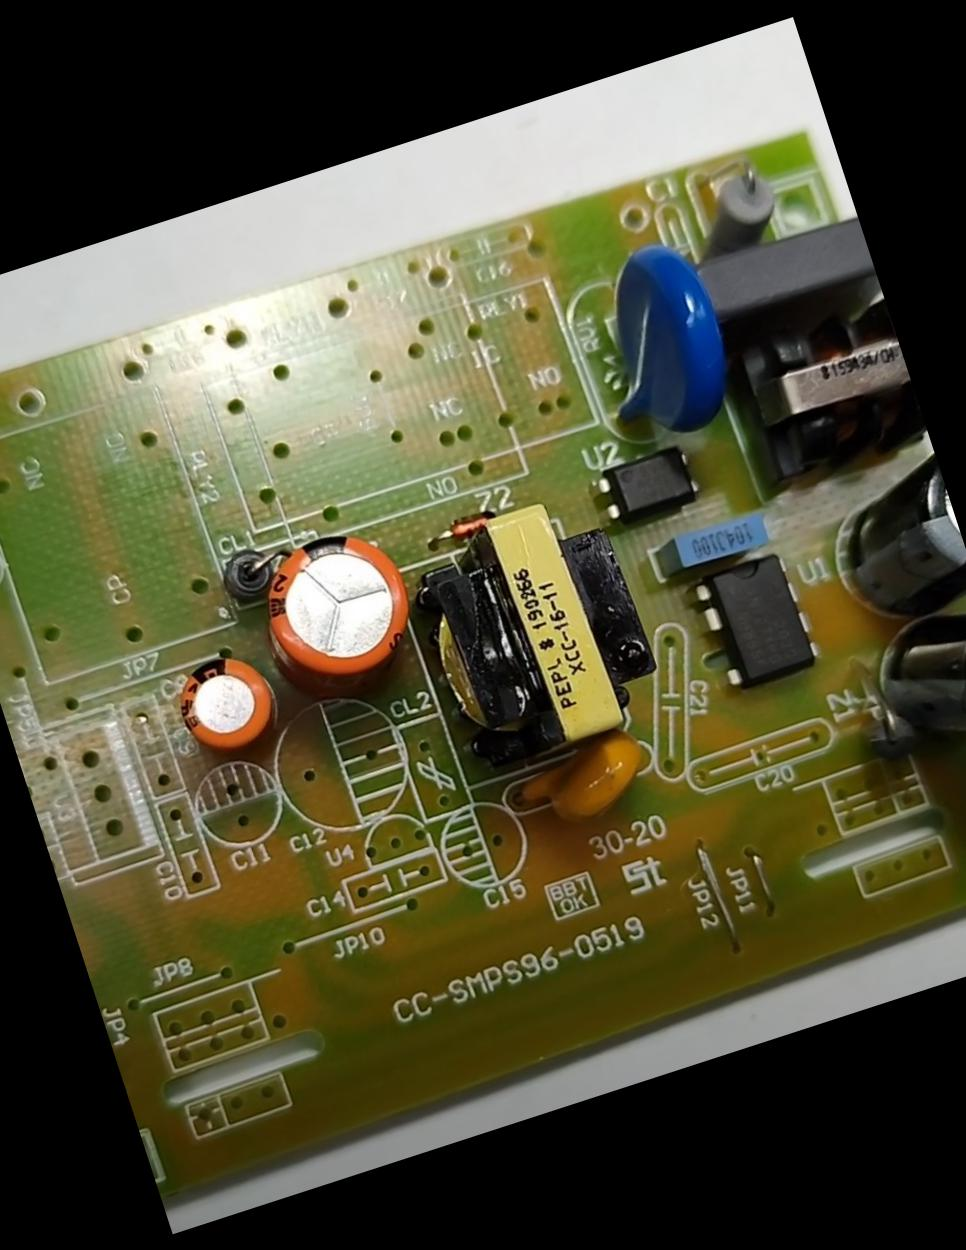Cap1: (231, 510, 430, 710)
Cap2: (157, 639, 288, 769)
Cap3: (813, 441, 965, 639)
Cap4: (860, 606, 965, 792)
MOSFET: (684, 540, 832, 700)
Mov: (562, 224, 759, 457)
Resistor: (678, 155, 797, 259)
Transformer: (394, 474, 674, 780), (724, 293, 929, 491)
